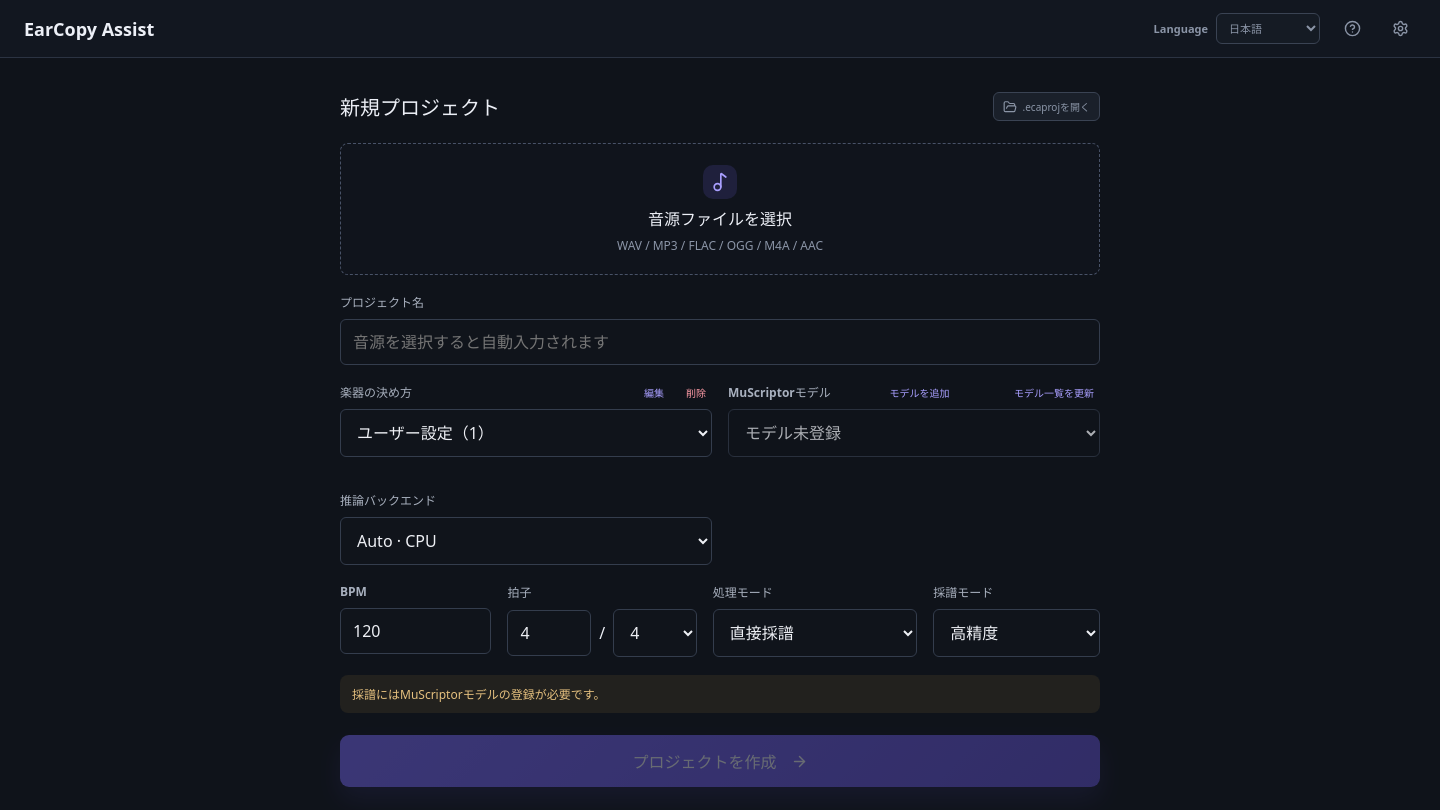
Test: NewProjectScreen stem separation › replaces the selected user preset after overwrite
Click the button "編集".
click(654, 392)  # box [638,384,670,400]
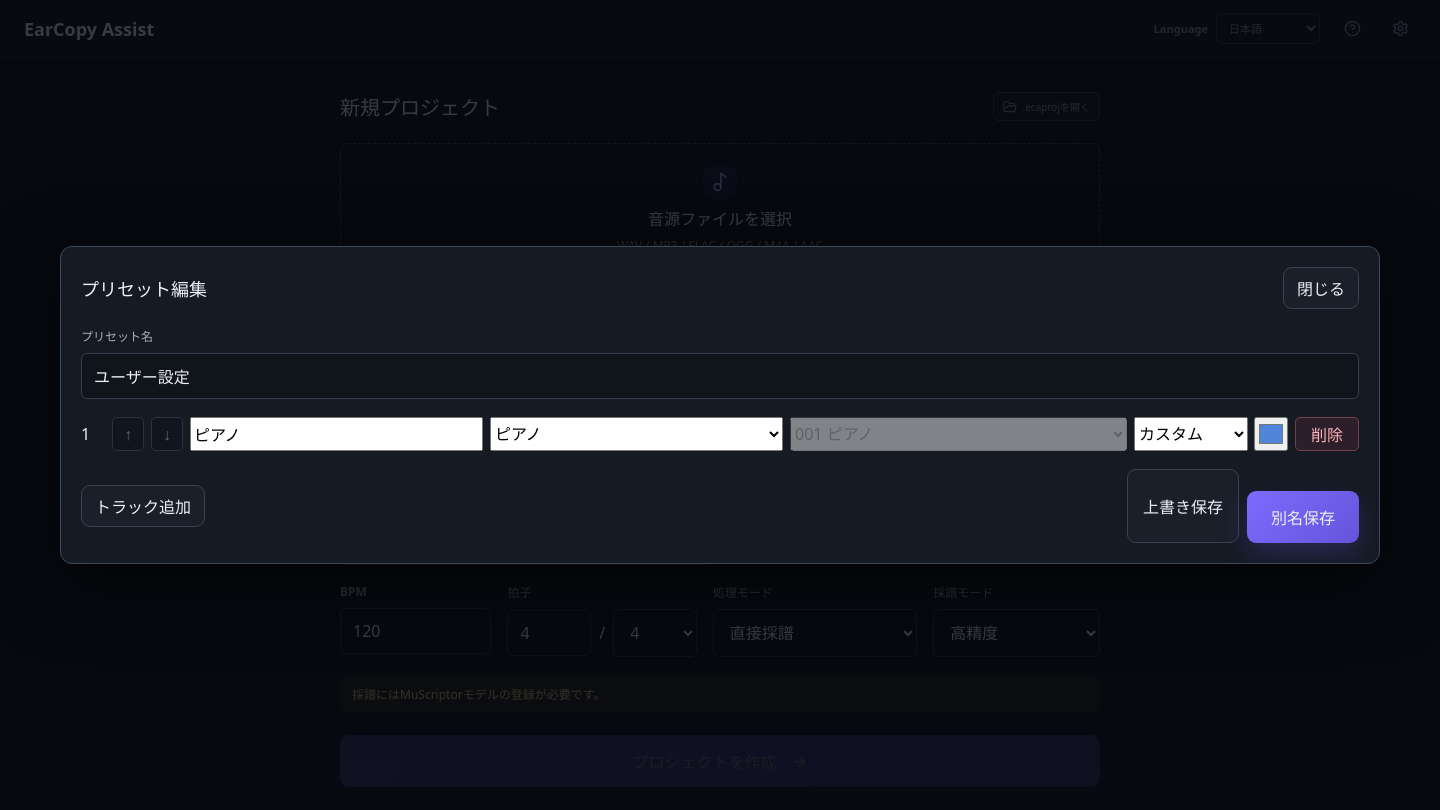
Replace the text in the field named "トラック名" with "Keys" at (336,434), box [190,417,483,451]
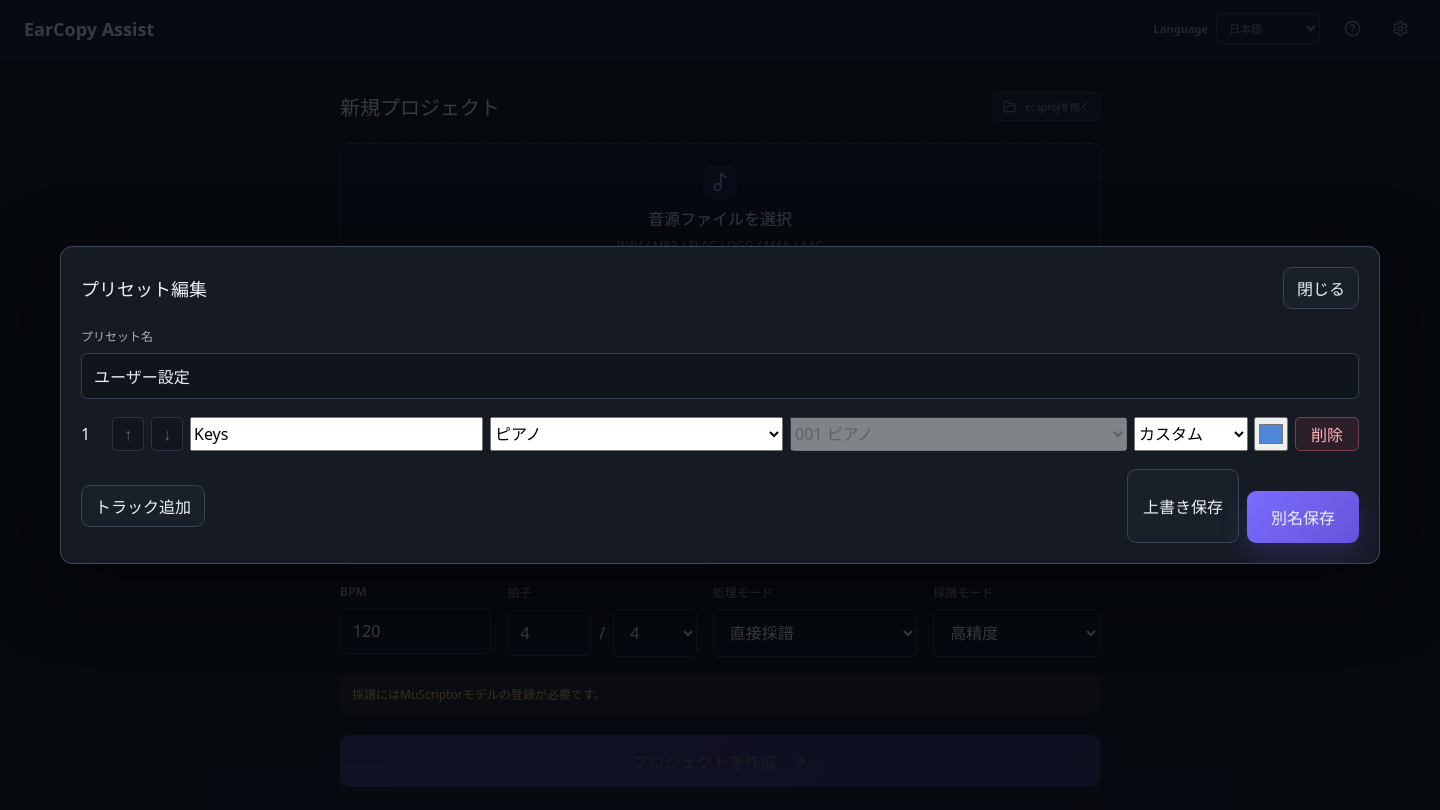
Click the button "上書き保存".
click(1183, 506)  # box [1127,469,1239,543]
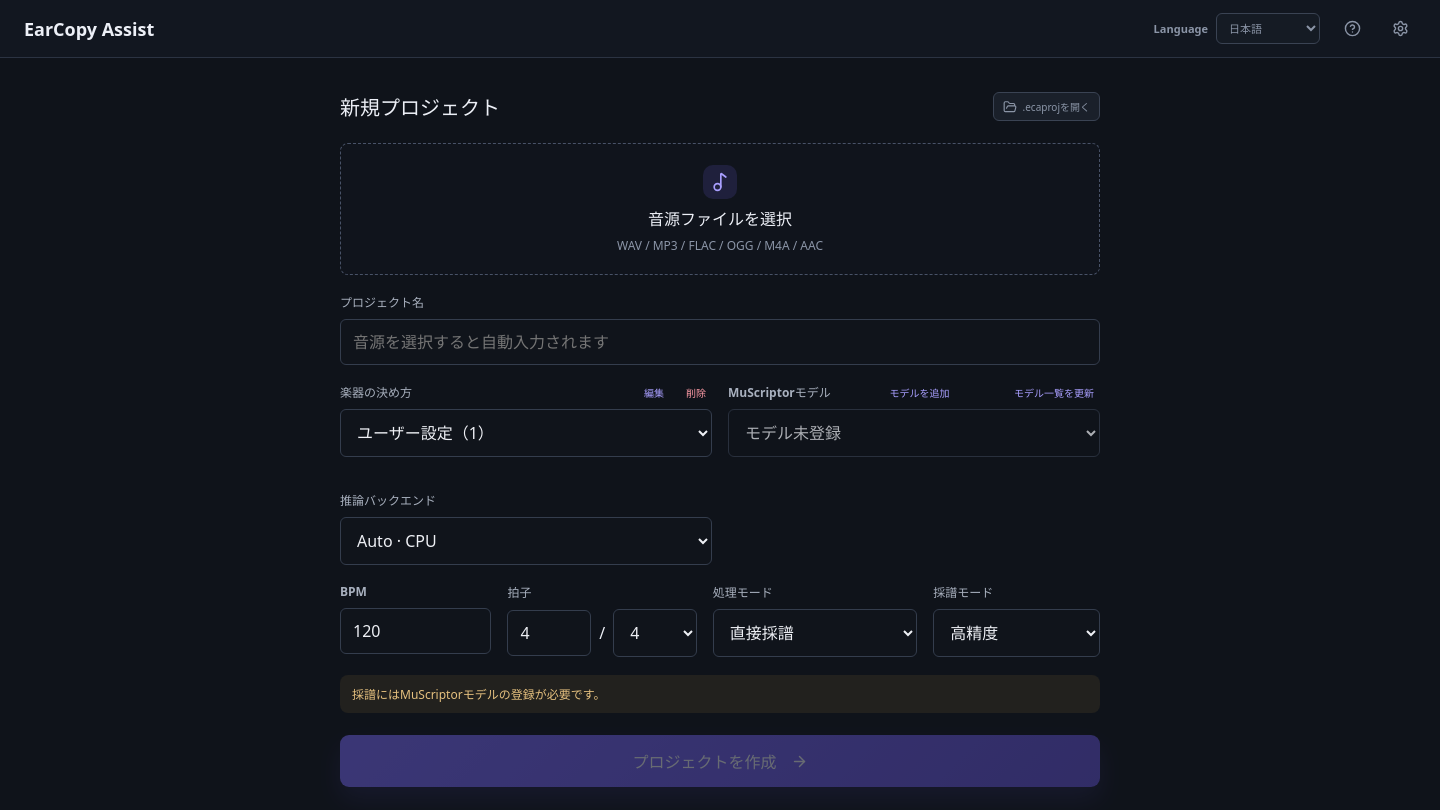
Result: the heading "プリセット編集" is gone
